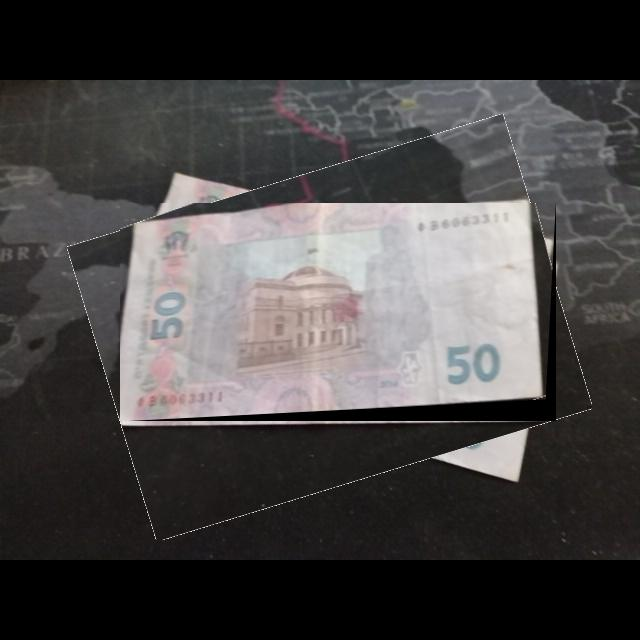50uah: (120, 203, 548, 422)
